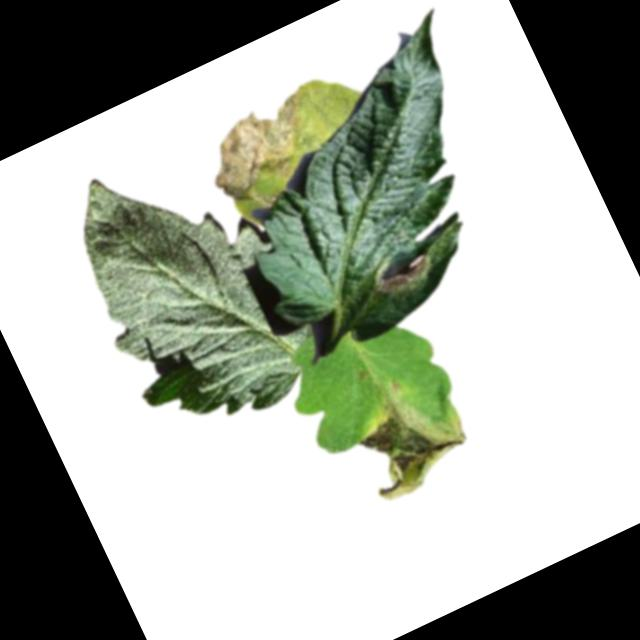Late_blight: (344, 374, 481, 506), (191, 86, 330, 207), (372, 250, 434, 297)
healthy: (46, 121, 333, 455)
